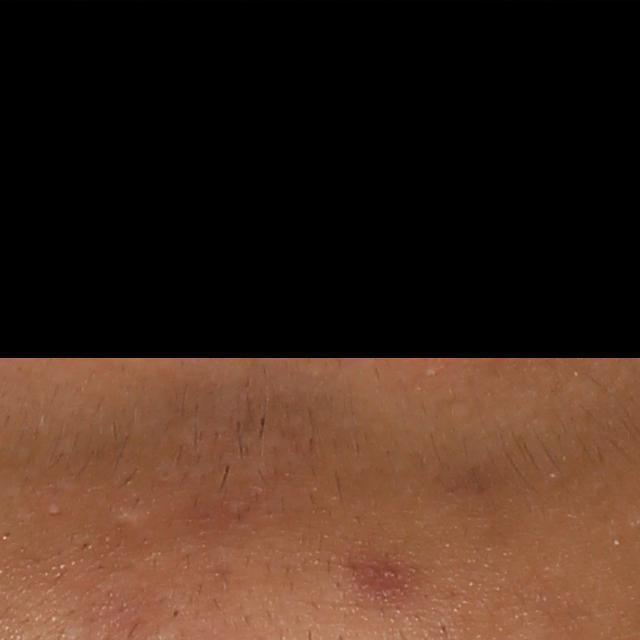comedo: (169, 605, 182, 619)
hypertrophic_scar: (113, 505, 165, 535)
